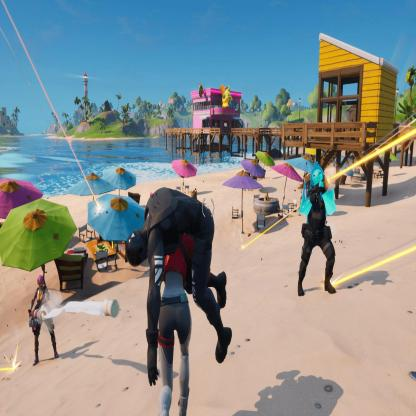person: (148, 184, 198, 416), (295, 159, 345, 306), (27, 269, 65, 367)
